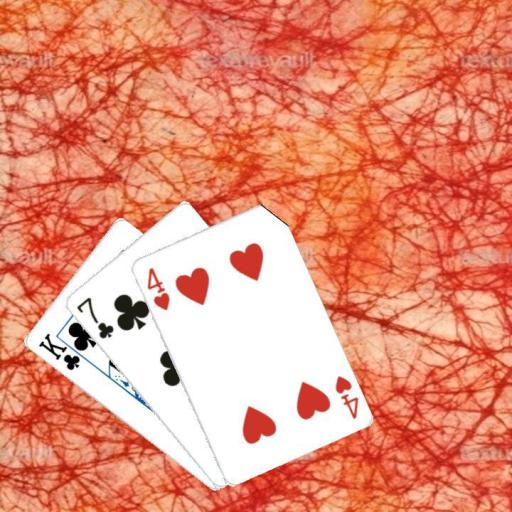4H: (331, 372, 360, 420), (143, 264, 171, 311)
7C: (73, 294, 115, 341)
KC: (35, 330, 90, 372)
